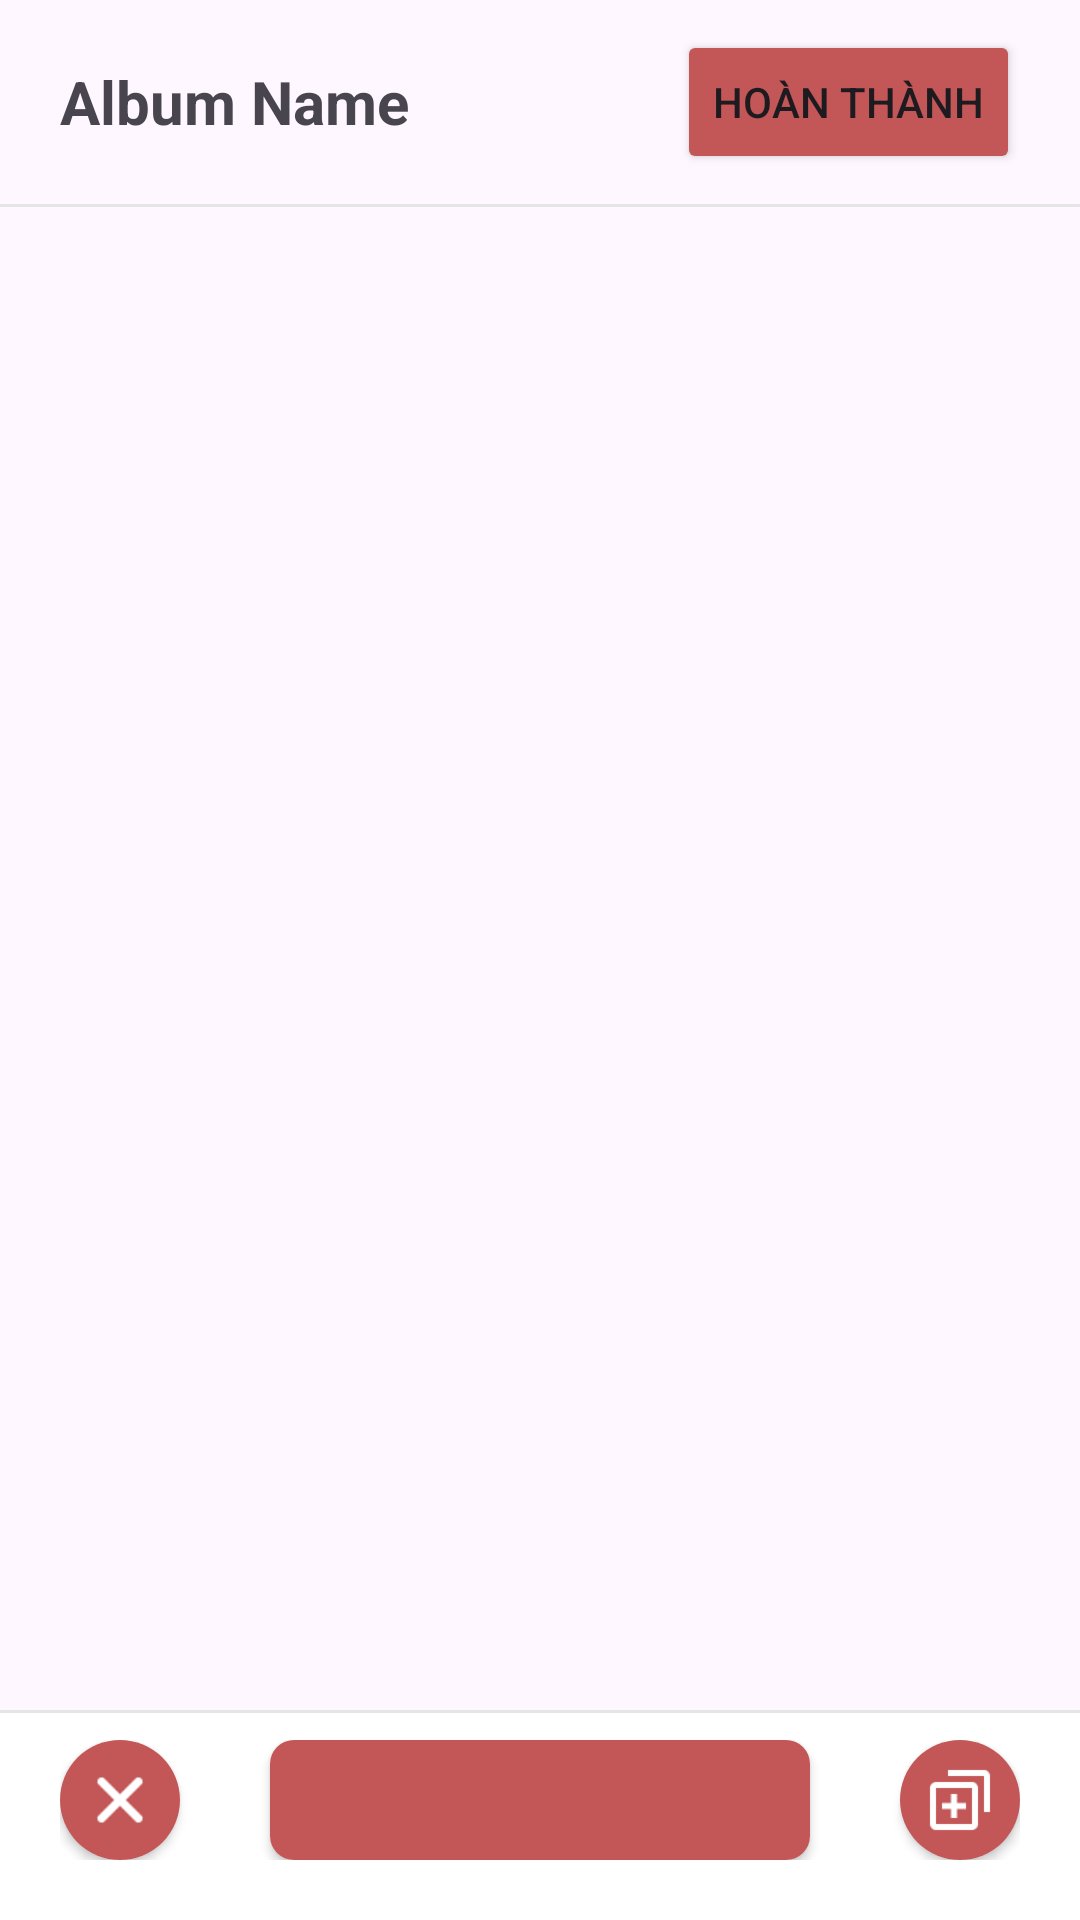

Screen size 1080w x 1920h. Icon name, then its center in pixels as (x=x, y=y):
cancel: (x=120, y=1800)
